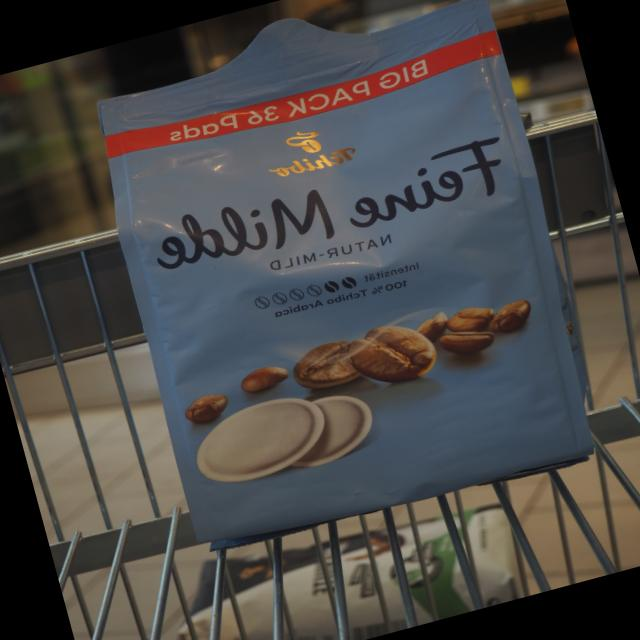FM 36 Pads: (60, 0, 626, 571)
